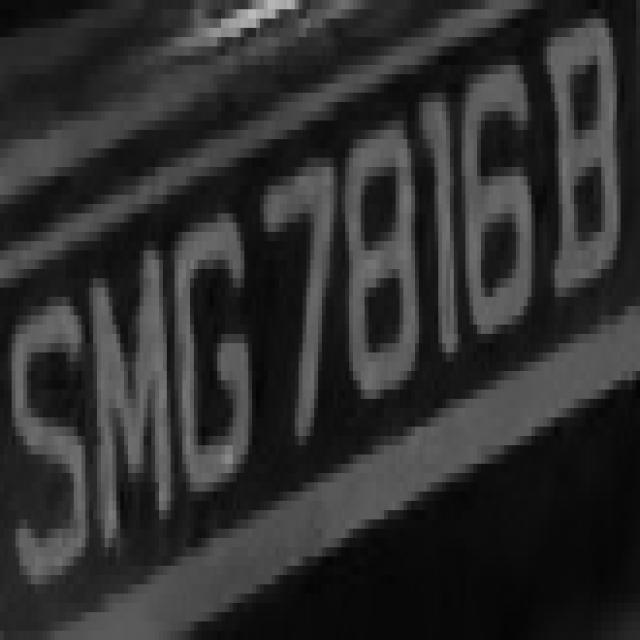1: (404, 84, 466, 380)
6: (454, 46, 535, 362)
7: (252, 130, 330, 473)
8: (337, 111, 419, 427)
B: (539, 0, 628, 315)
G: (171, 176, 256, 501)
M: (85, 204, 178, 566)
S: (15, 260, 86, 603)
